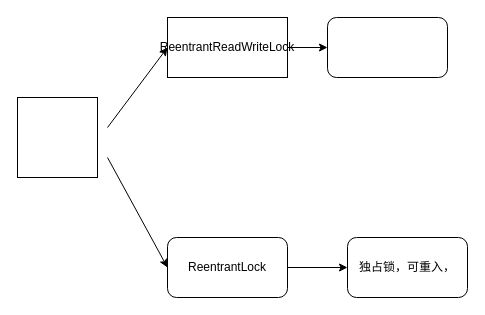
Image size: 485x315. Some labels were removed from this diagram. Each missing label, with the centre of its shape:
比较区别: pixel 57 137
读写分离: pixel 387 47
